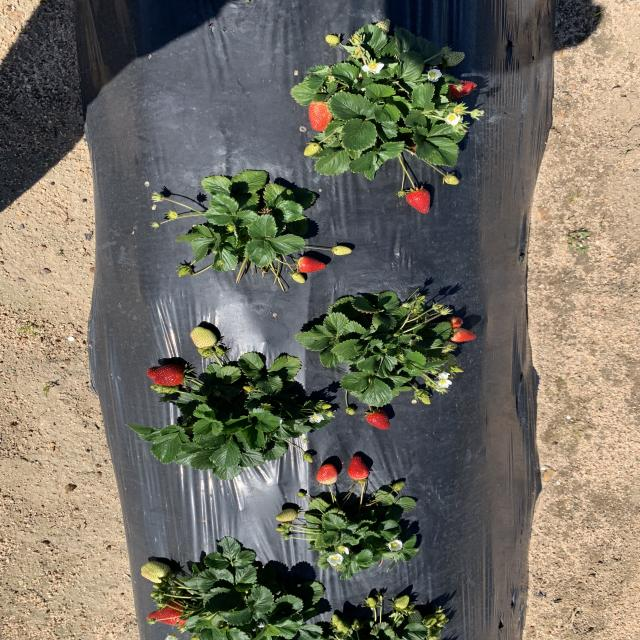unripe: (146, 598, 190, 628), (146, 364, 188, 386), (403, 187, 433, 216), (308, 100, 334, 130), (348, 454, 374, 482), (446, 78, 478, 100), (364, 408, 392, 431), (316, 462, 338, 484), (296, 256, 326, 272), (449, 328, 476, 341), (449, 316, 462, 328)
